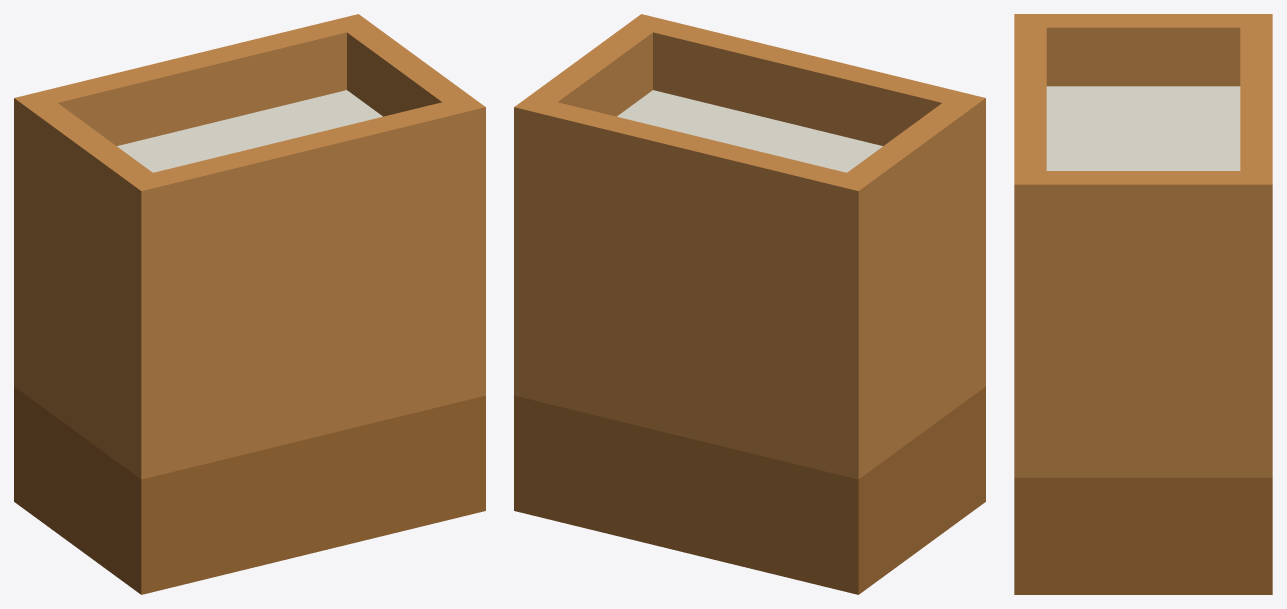
File: ingredients.vox-10-powder.obj
The picture shows the model from 3 angles, left to right: view 1: azimuth 30°, elevation 25°; view 2: azimuth 150°, elevation 25°; view 3: azimuth 270°, elevation 25°; orthographic projection.
Visible parts, largest first — view 1: powder; view 2: powder; view 3: powder.
Part boxes in pixels (x1=…): powder: x1=14, y1=14, x2=485, y2=594; powder: x1=514, y1=14, x2=985, y2=594; powder: x1=1014, y1=14, x2=1272, y2=594.
Size of the model in its own units: 2.5 by 2.8 by 1.6.
1 material, 1 textured.
